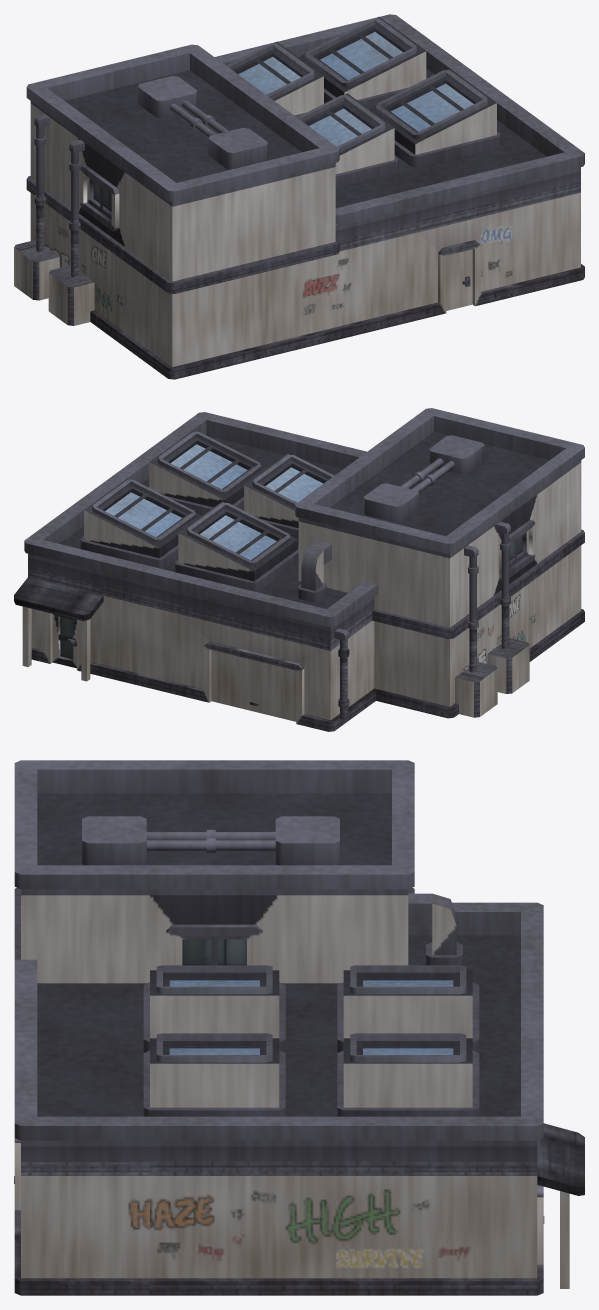
File: building-q-white-scuffed.glb
The picture shows the model from 3 angles, top to bottom: view 1: azimuth 30°, elevation 25°; view 2: azimuth 150°, elevation 25°; view 3: azimuth 270°, elevation 25°; orthographic projection. The views are drawn at different scales.
Parts seen in each view (by area): view 1: building-q; view 2: building-q; view 3: building-q.
Boxes of the visible parts, x1,y1,x2,y2 form: building-q: (14,14,584,379); building-q: (14,408,584,731); building-q: (14,760,584,1295).
Size of the model in its own units: 2.14 by 0.88 by 1.77.
1 material, 1 textured.
